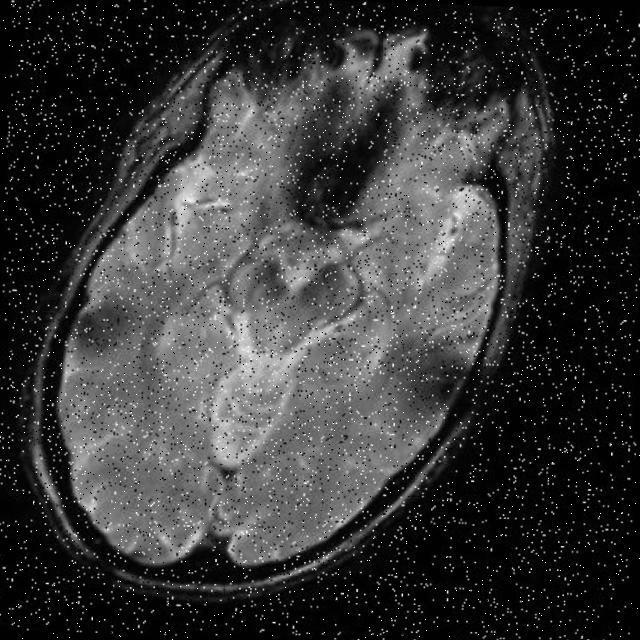CN: (274, 120, 401, 234)
LMCI: (370, 335, 488, 489), (62, 261, 166, 381)
